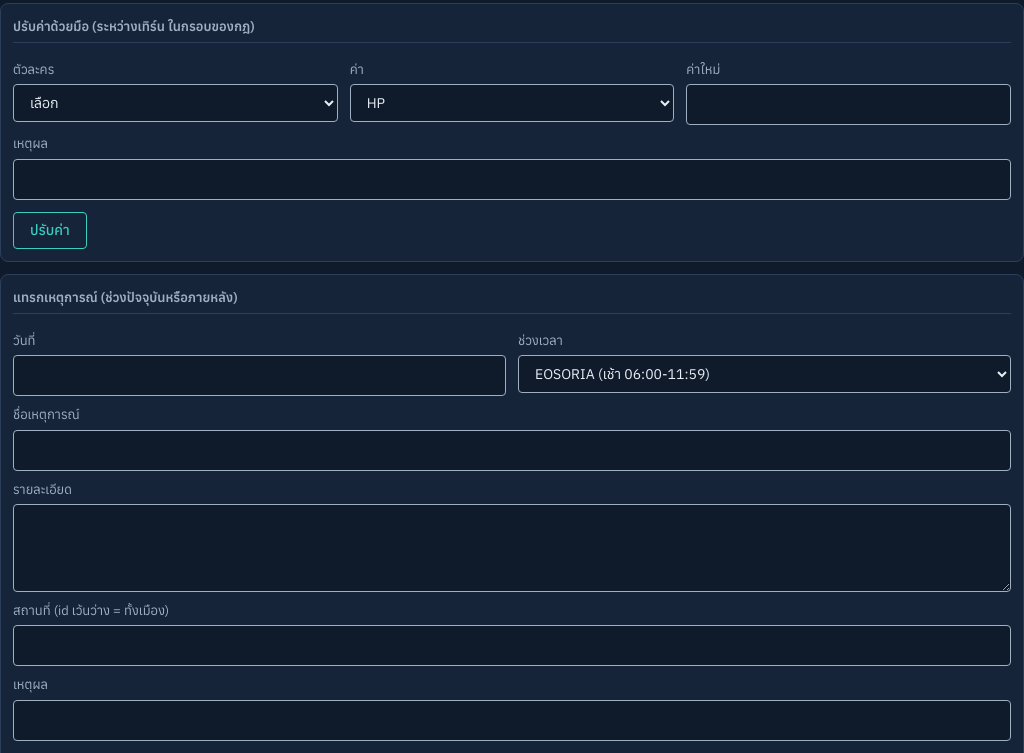
Test: GEN-058 GM console (web) › C4 + C5: inserts an event with a reason; the log shows who changed what and why
(page scrolled)
Type "6" into the number field labelled "วันที่" at (260, 376), box [13,355,506,396]
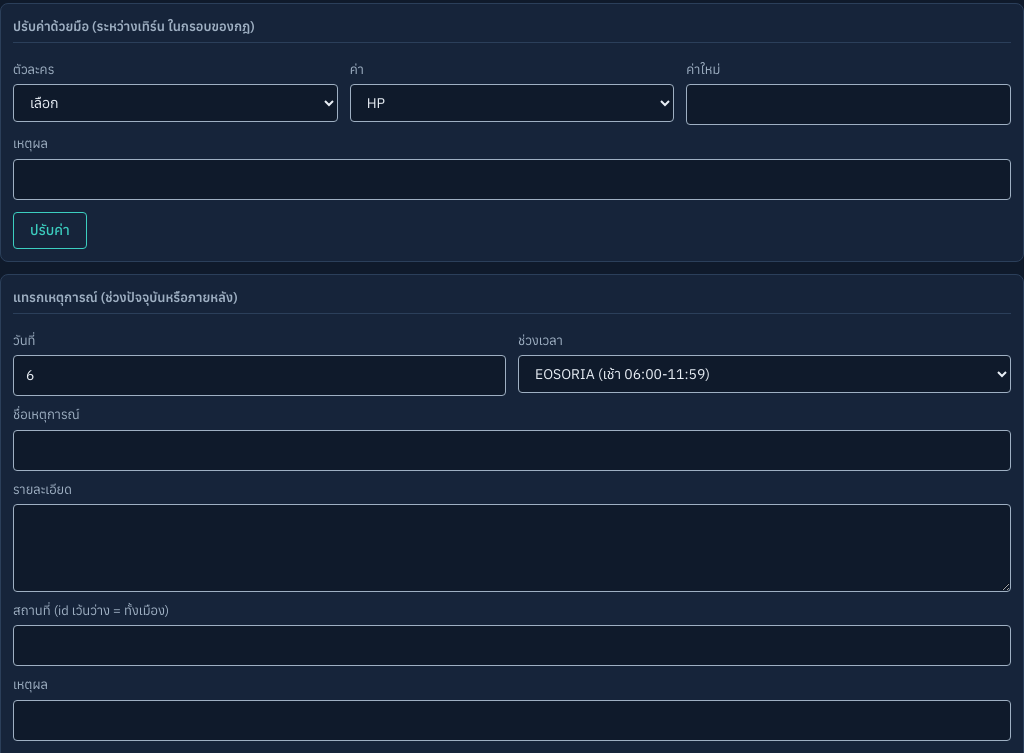
Select "SOLARION (บ่าย 12:00-17:59)" in the dropdown labelled "ช่วงเวลา" at (764, 374), box [518,355,1011,393]
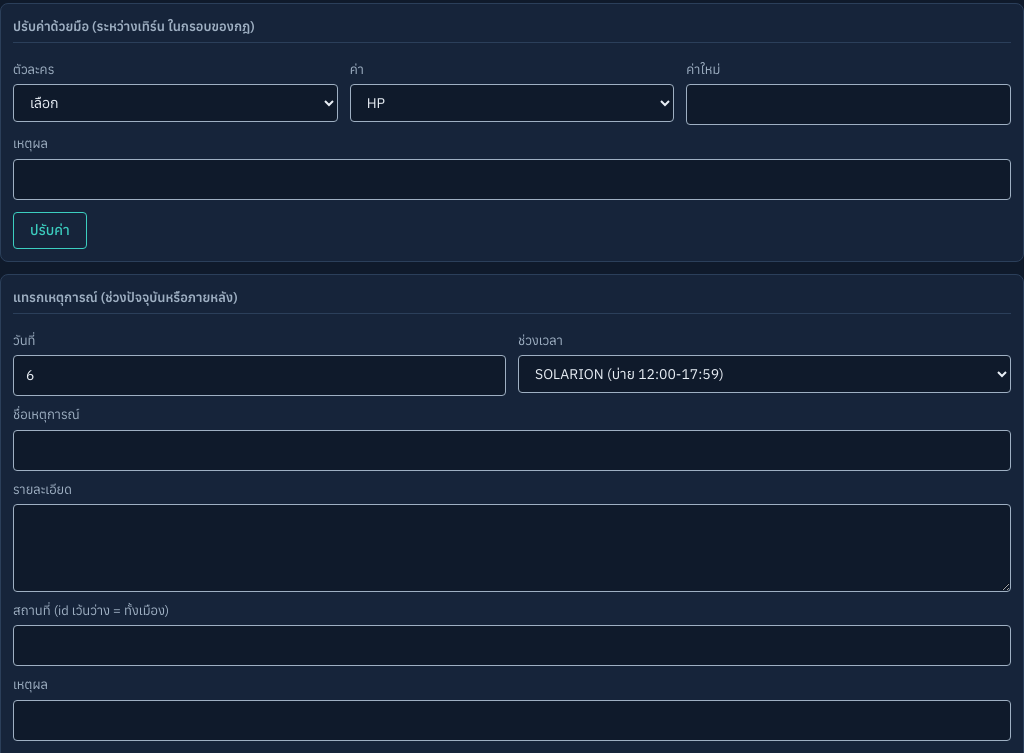
Type "ไฟไหม้ตลาด" into the field labelled "ชื่อเหตุการณ์" at (512, 450), box [13,430,1011,471]
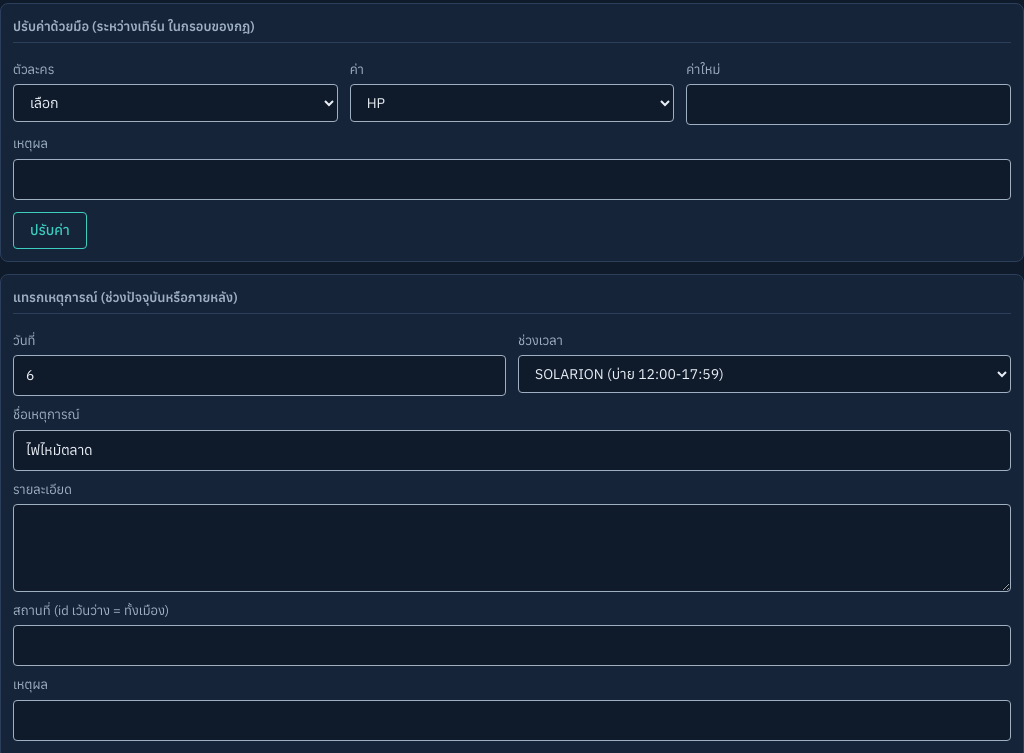
Type "เพิ่มแรงกดดัน" into the field labelled "เหตุผล" below "สถานที่ (id เว้นว่าง = ทั้งเมือง)" at (512, 720), box [13,700,1011,741]
(page scrolled)
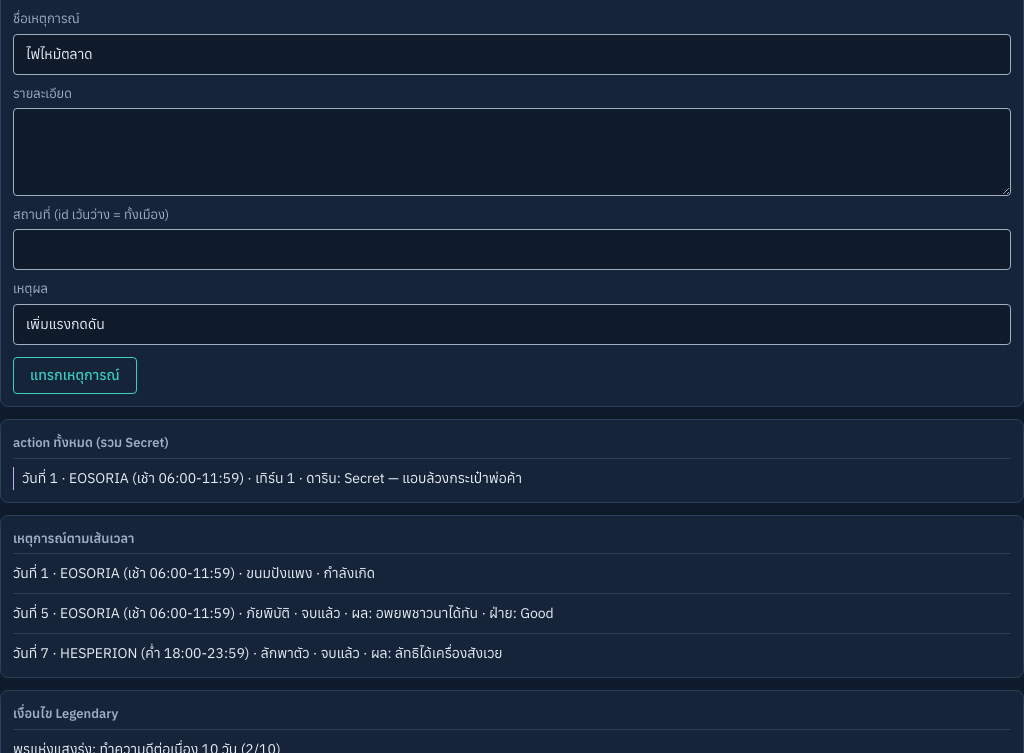
Click the button "แทรกเหตุการณ์" at (75, 375), box [13,357,137,394]
(page scrolled)
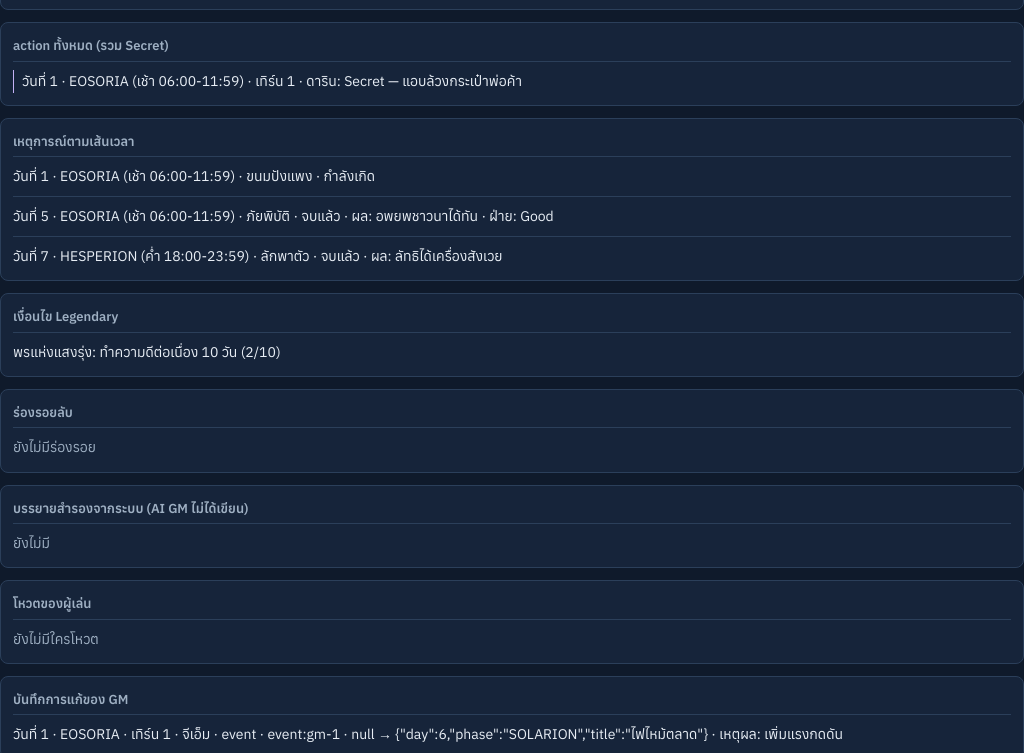
Result: the 6th list item is shown at [13,725,843,743]
